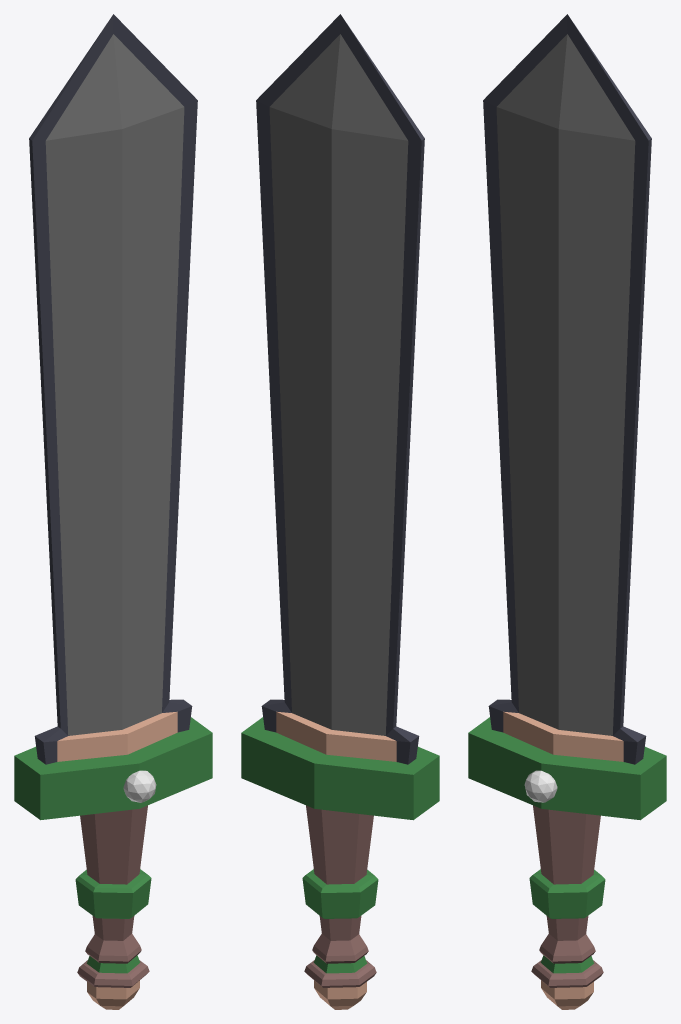
Rendered from YanSword.fbx.
3 views of the same model, side by side, from view 1: azimuth 30°, elevation 25°; view 2: azimuth 150°, elevation 25°; view 3: azimuth 330°, elevation 25° (orthographic).
Visible parts, largest first — view 1: Cylinder; view 2: Cylinder; view 3: Cylinder.
Boxes of the visible parts, x1,y1,x2,y2 form: Cylinder: (14,14,212,1009); Cylinder: (241,14,439,1009); Cylinder: (468,14,666,1009).
Bounding box in the file's own units: 306 × 1684 × 188.
